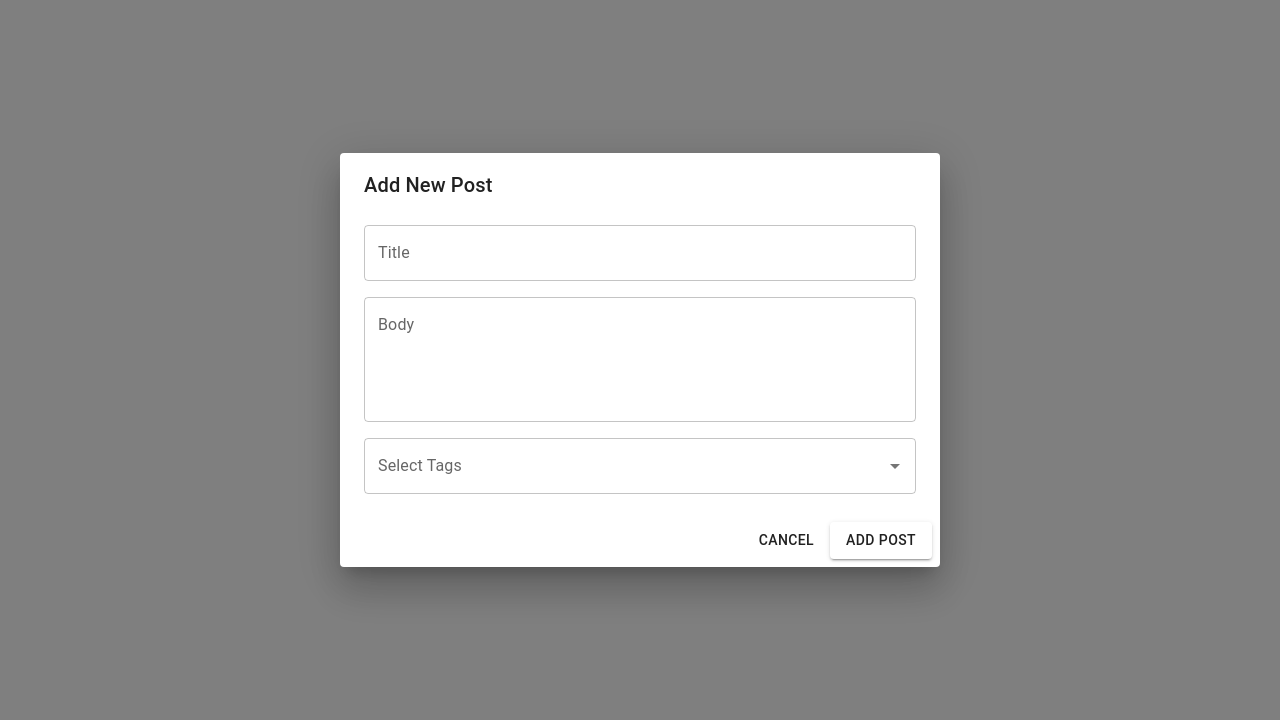
Scenario: AddPostDialog Component › Form Interactions › allows selecting multiple tags
In the dropdown: (625, 466) 373,447 -> 877,485, type "tech"
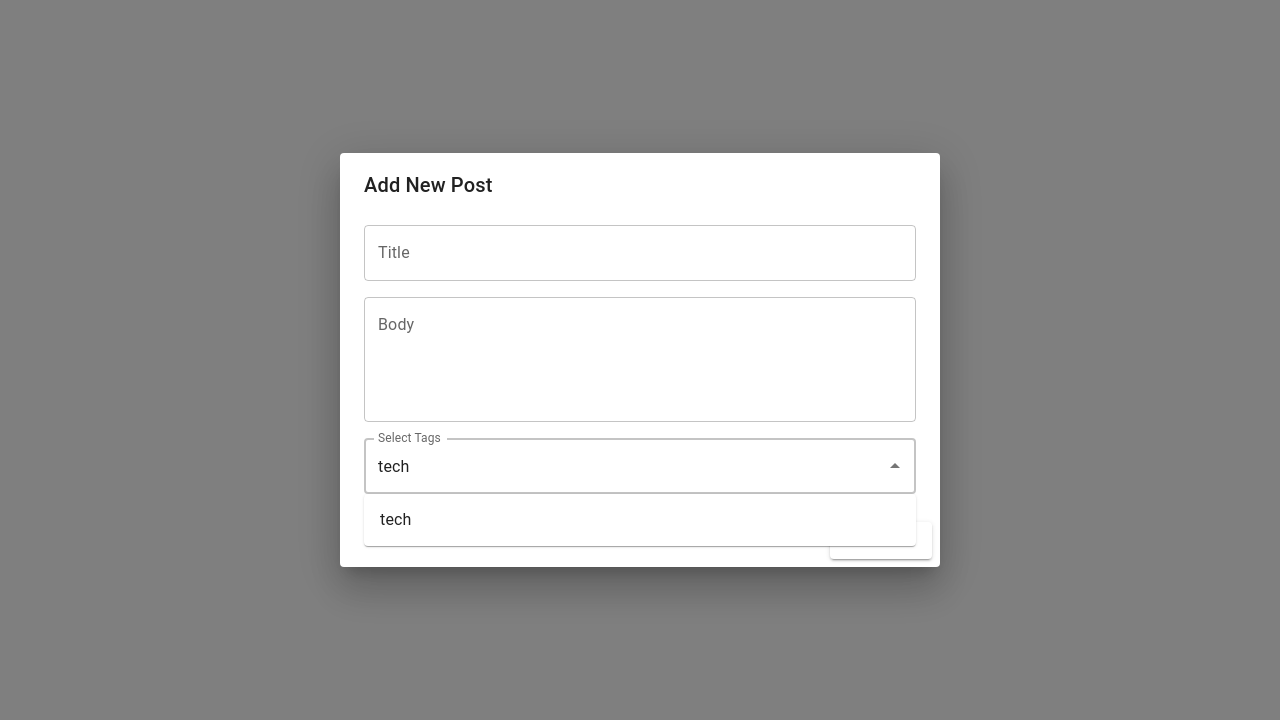
Result: the option "tech" is shown
Click the option "tech": (396, 520) 380,510 -> 412,529
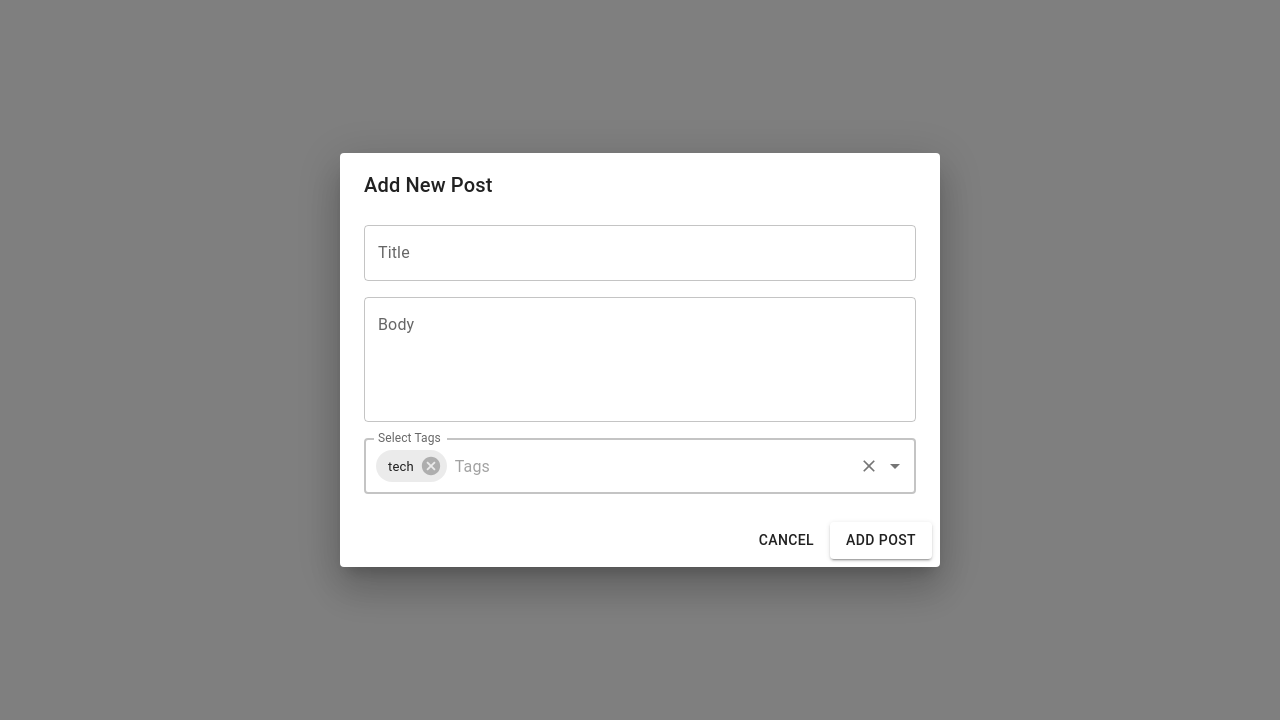
In the dropdown: (650, 466) 450,447 -> 851,485, type "news"
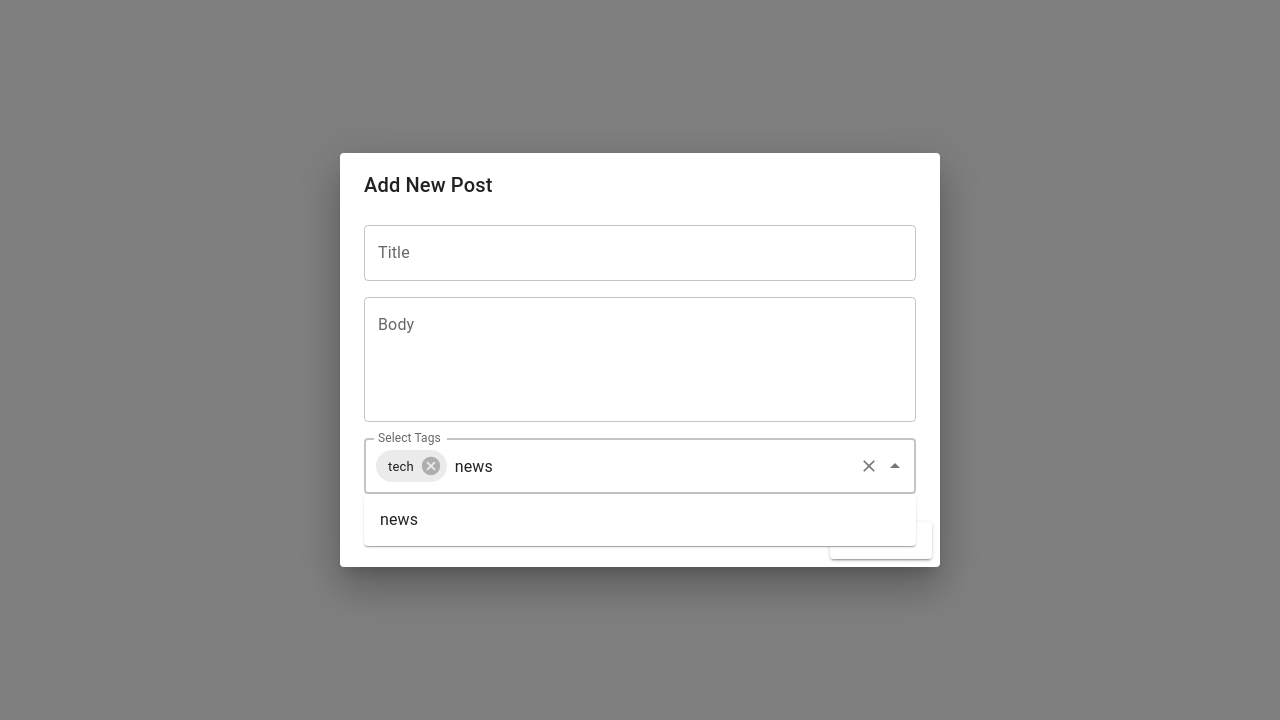
Result: the option "news" is shown
Click the option "news": (399, 520) 380,510 -> 418,529
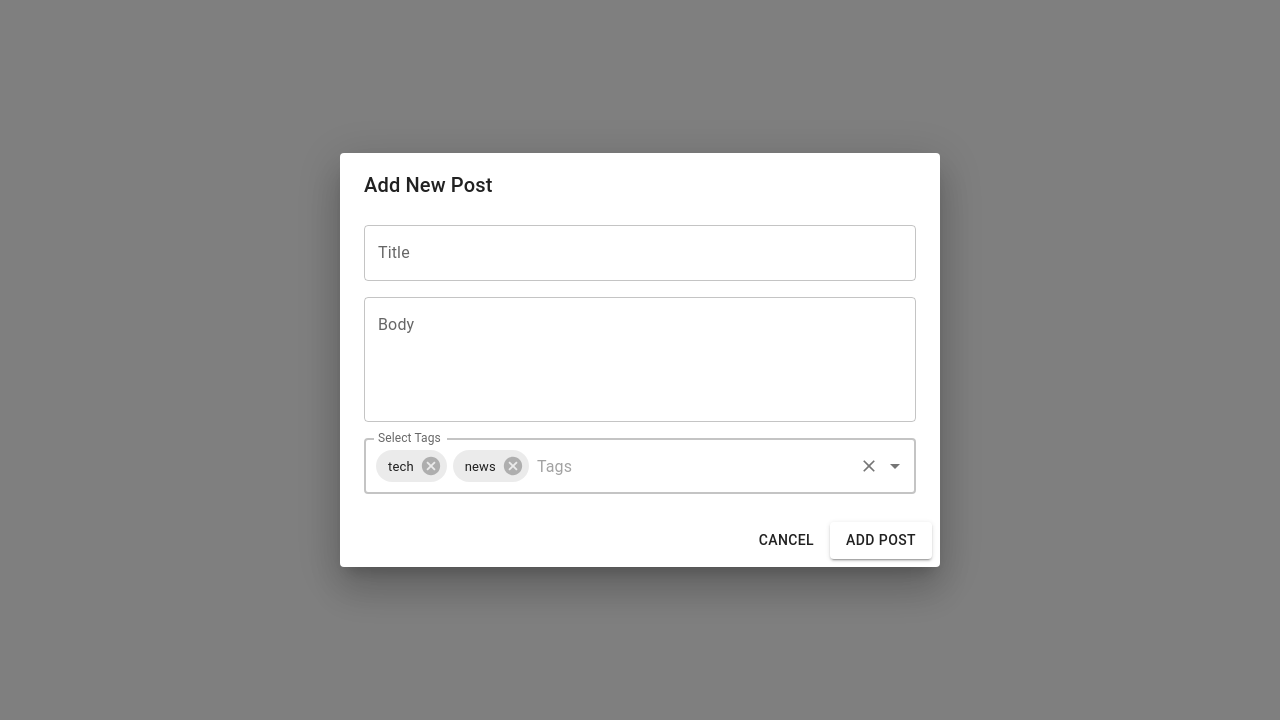
Result: the number of buttons "tech" is 1 at 376,450 -> 447,482
Result: the number of buttons "news" is 1 at 453,450 -> 529,482
